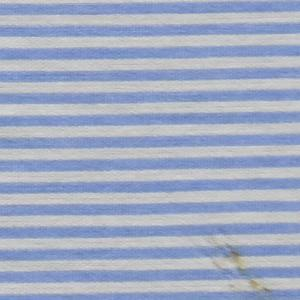Oil Stain: (196, 226, 280, 300)
